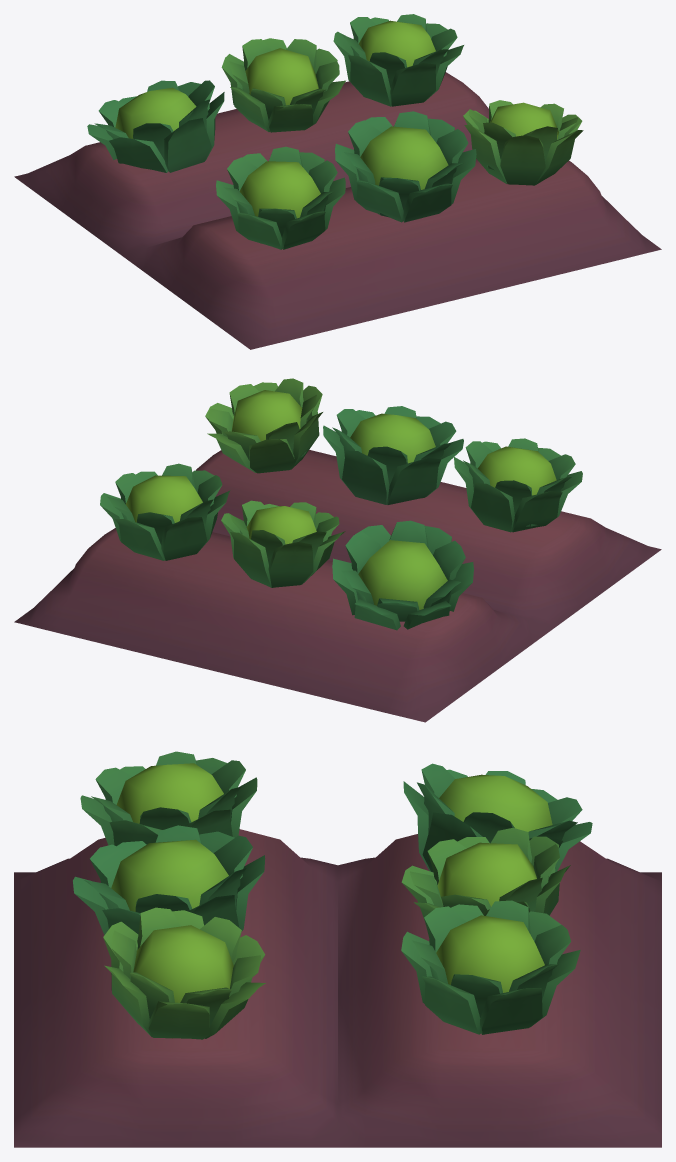
Rendered from Farm_Cabbage.fbx.
3 views of the same model, one above another, from view 1: azimuth 30°, elevation 25°; view 2: azimuth 150°, elevation 25°; view 3: azimuth 270°, elevation 25° (orthographic). The views are drawn at different scales.
Parts seen in each view (by area): view 1: Farm_Cabbage; view 2: Farm_Cabbage; view 3: Farm_Cabbage.
Part boxes in pixels (<box>): Farm_Cabbage: <box>14,14,661,349</box>; Farm_Cabbage: <box>14,378,661,722</box>; Farm_Cabbage: <box>14,751,661,1147</box>.
Bounding box in the file's own units: 100 × 28.73 × 99.57.
